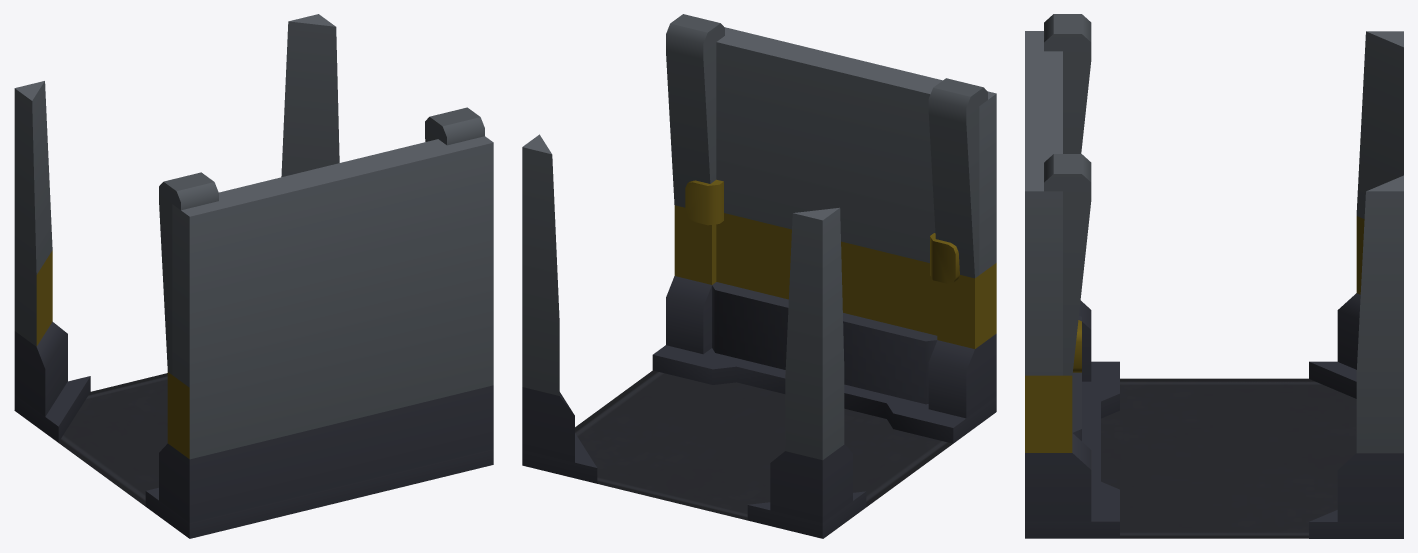
File: k_corridor_junction.glb
The picture shows the model from 3 angles, left to right: view 1: azimuth 30°, elevation 25°; view 2: azimuth 150°, elevation 25°; view 3: azimuth 270°, elevation 25°; orthographic projection. The views are drawn at different scales.
Visible parts, largest first — view 1: corridor-junction; view 2: corridor-junction; view 3: corridor-junction.
Boxes of the visible parts, bbox=[...] form: corridor-junction: bbox=[14, 14, 493, 538]; corridor-junction: bbox=[522, 14, 996, 538]; corridor-junction: bbox=[1025, 14, 1403, 538].
Bounding box in the file's own units: 4.01 × 4.25 × 4.
Materials: 1 (1 with a texture image).
